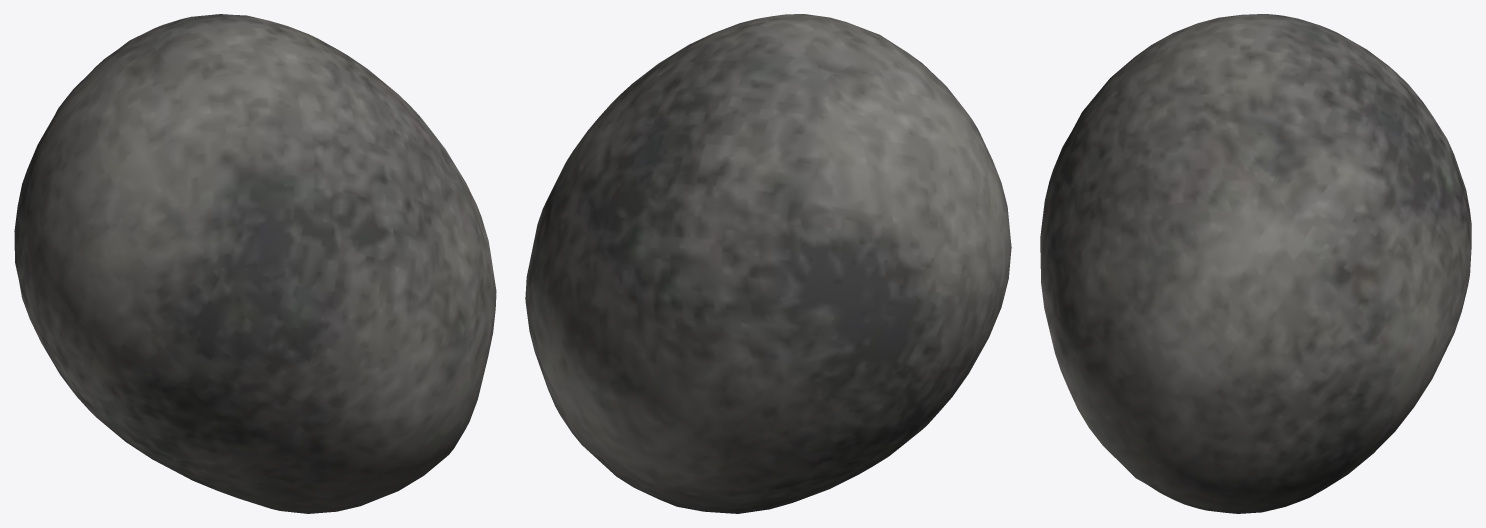
File: ornate-granite-boulder-v001.glb
The picture shows the model from 3 angles, left to right: view 1: azimuth 30°, elevation 25°; view 2: azimuth 150°, elevation 25°; view 3: azimuth 270°, elevation 25°; orthographic projection. The views are drawn at different scales.
Visible parts, largest first — view 1: ornate-granite-boulder; view 2: ornate-granite-boulder; view 3: ornate-granite-boulder.
Part boxes in pixels (x1,y1,x2,y2): ornate-granite-boulder: (14,14,496,513); ornate-granite-boulder: (525,14,1011,513); ornate-granite-boulder: (1040,14,1471,513).
Bounding box in the file's own units: 0.6747 × 0.7399 × 0.6569.
1 material, 1 textured.
